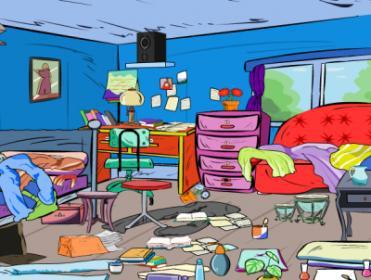chair: (104, 127, 156, 203)
pottedplant: (244, 249, 283, 279), (219, 85, 243, 111)
sofa: (252, 103, 371, 195)
